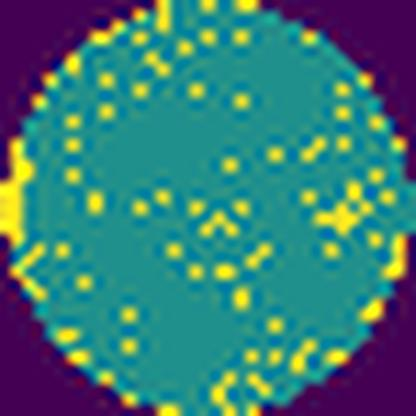Edge-Loc: (0, 136, 38, 247)
